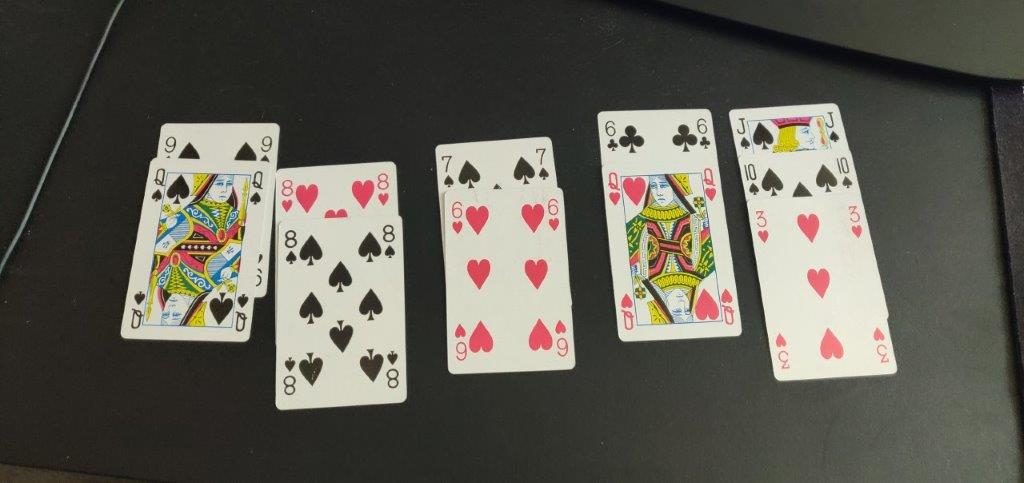10S: (833, 150, 856, 190), (741, 160, 764, 198)
3H: (843, 200, 866, 241), (753, 205, 774, 246)
6C: (601, 115, 620, 153), (694, 115, 712, 150)
6H: (543, 195, 564, 233), (447, 199, 465, 237)
7S: (437, 152, 457, 190), (532, 143, 551, 180)
8H: (375, 170, 393, 209), (278, 178, 295, 214)
8S: (378, 221, 398, 263), (282, 228, 301, 270)
JS: (732, 111, 753, 151), (820, 108, 843, 144)
QH: (604, 169, 627, 211), (700, 163, 719, 205)
QS: (149, 164, 170, 207), (246, 170, 266, 211)
